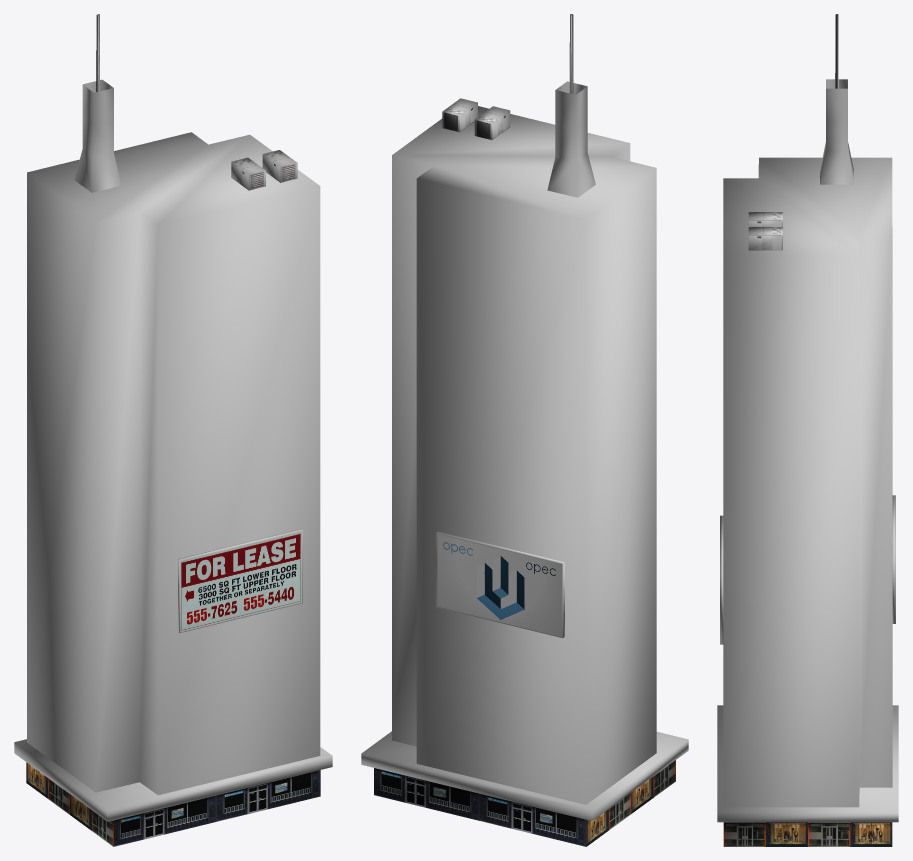
The model's file is Building01.fbx.
3 views of the same model, side by side, from view 1: azimuth 30°, elevation 25°; view 2: azimuth 150°, elevation 25°; view 3: azimuth 270°, elevation 25° (orthographic). The views are drawn at different scales.
Parts seen in each view (by area): view 1: U3DMesh; view 2: U3DMesh; view 3: U3DMesh.
Boxes of the visible parts, x1=… form: U3DMesh: x1=14, y1=14, x2=332, y2=846; U3DMesh: x1=361, y1=14, x2=688, y2=846; U3DMesh: x1=717, y1=14, x2=898, y2=846.
Bounding box in the file's own units: 42.74 × 141 × 30.85.
